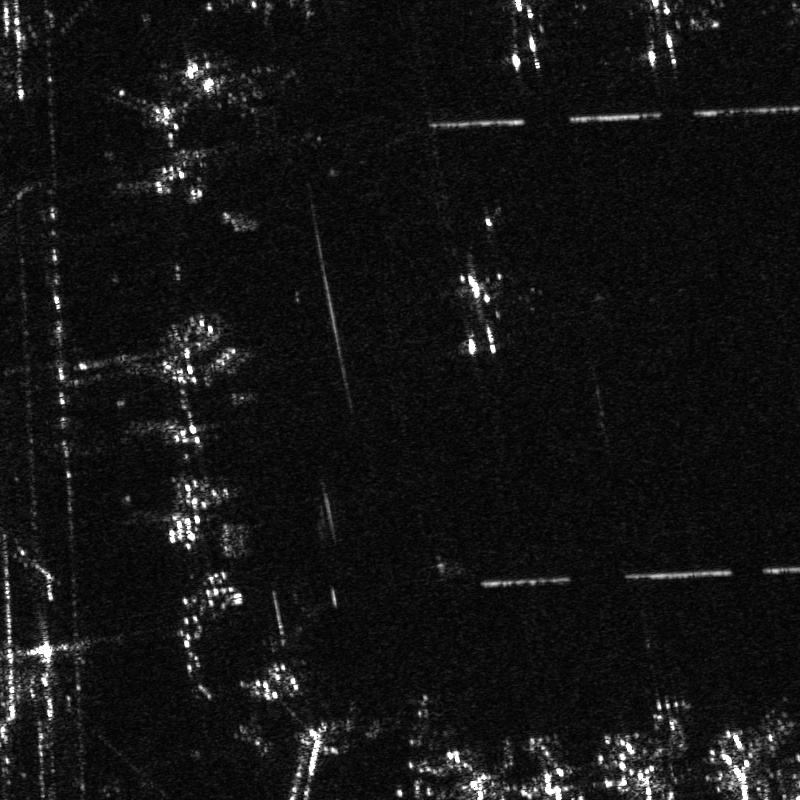A320/321: (641, 693, 697, 745)
other: (441, 271, 514, 358)
